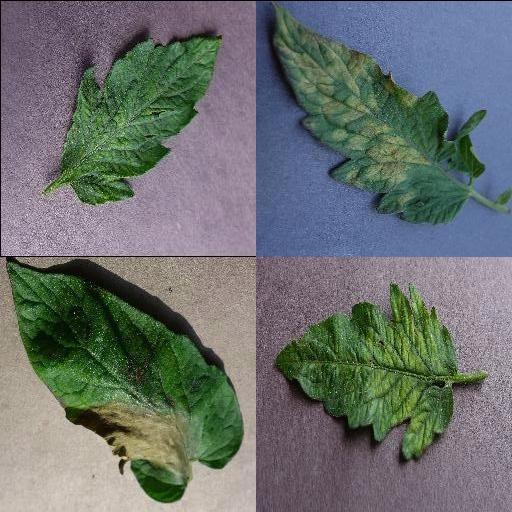Late Blight: (5, 260, 243, 502)
Leaf Mold: (268, 0, 468, 225)
Mosaic Virus: (273, 279, 459, 461), (59, 34, 223, 207)
